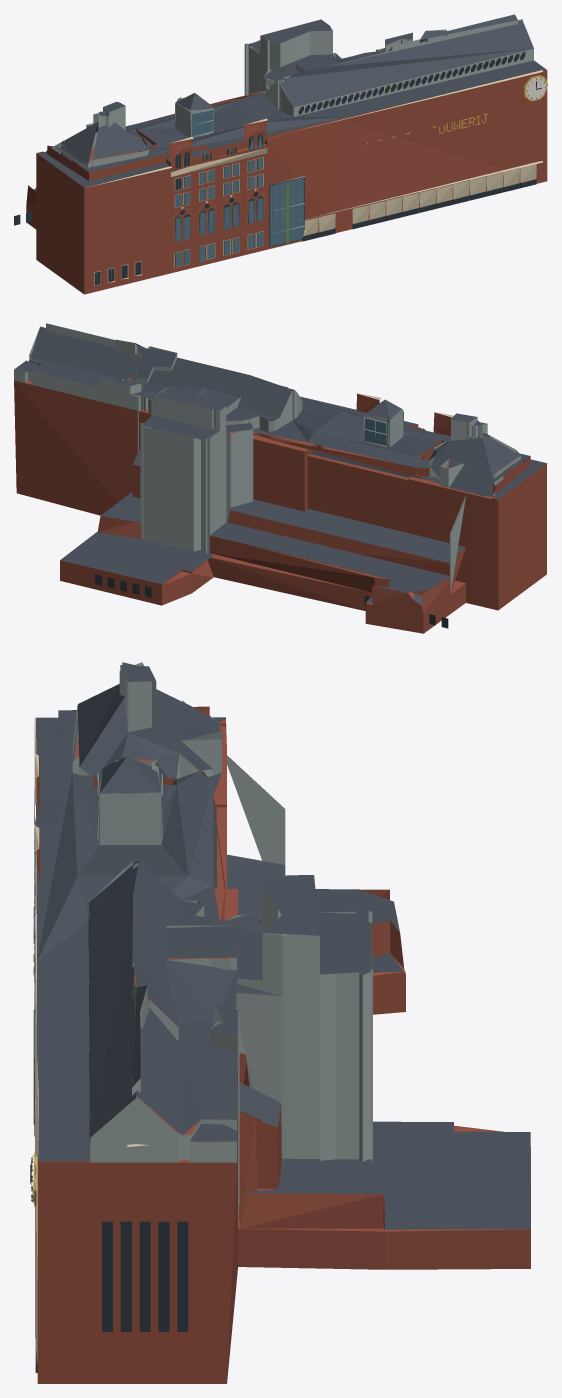
File: heineken-experience-amsterdam.lod1.glb
The picture shows the model from 3 angles, top to bottom: view 1: azimuth 30°, elevation 25°; view 2: azimuth 150°, elevation 25°; view 3: azimuth 270°, elevation 25°; orthographic projection. The views are drawn at different scales.
Visible parts, largest first — view 1: heineken-experience-amsterdam; view 2: heineken-experience-amsterdam; view 3: heineken-experience-amsterdam.
Boxes of the visible parts, <box> form: heineken-experience-amsterdam: <box>14,14,547,294</box>; heineken-experience-amsterdam: <box>14,323,547,633</box>; heineken-experience-amsterdam: <box>30,662,530,1383</box>.
Bounding box in the file's own units: 97.01 × 31.15 × 45.29.
